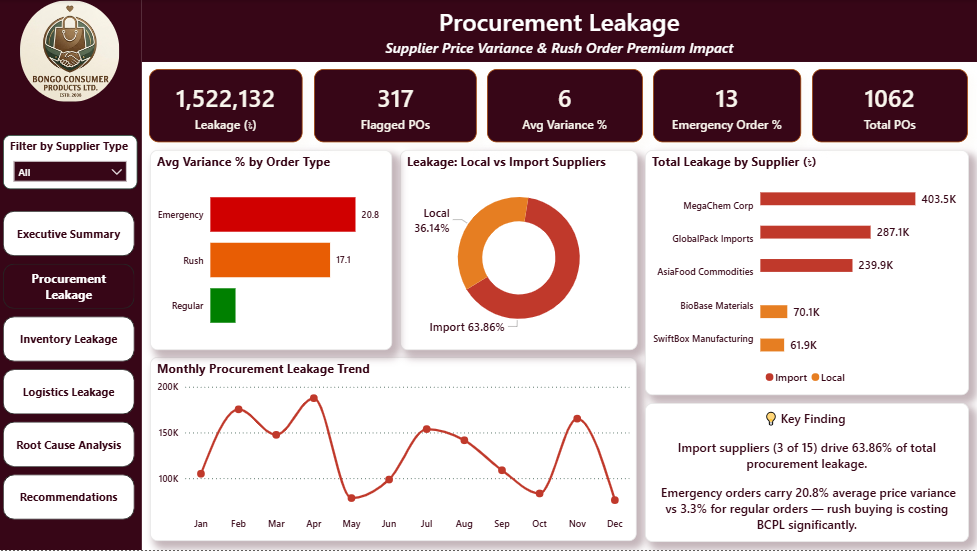

What the dashboard file says about the page in this screenshot:
{"tool":"powerbi","page":{"name":"Procurement Leakage","canvas":[1280,720],"ordinal":1},"visuals":[{"type":"shape","box":[0,0,187.2,720],"z":0},{"type":"lineChart","title":"Monthly Procurement Leakage Trend","fields":{"Y":["Sum(vw_procurement_price_variance.total_leakage_amount)"],"Category":["vw_procurement_price_variance.Month_Short"]},"box":[198.2,468,637.2,240.9],"z":1000},{"type":"donutChart","title":"Leakage: Local vs Import Suppliers","fields":{"Y":["Sum(vw_procurement_price_variance.total_leakage_amount)"],"Category":["vw_procurement_price_variance.supplier_type"]},"box":[524.4,196.8,311.1,261.5],"z":2000},{"type":"slicer","title":"Filter by Supplier Type","fields":{"Values":["vw_procurement_price_variance.supplier_type"]},"box":[4.6,177.1,175.6,70.9],"z":3000},{"type":"clusteredBarChart","title":"Avg Variance % by Order Type","fields":{"Category":["vw_procurement_price_variance.order_type"],"Y":["Avg(vw_procurement_price_variance.variance_pct)"]},"box":[198.2,196.8,316.6,261.5],"z":4000},{"type":"card","fields":{"Values":["_Measures.Total Procurement Leakage"]},"box":[196.8,90.8,200.9,96.3],"z":5000},{"type":"card","fields":{"Values":["_Measures.Flagged PO Count"]},"box":[412.9,90.8,213.3,96.3],"z":6000},{"type":"card","fields":{"Values":["_Measures.Avg Variance %"]},"box":[638.6,90.8,203.7,96.3],"z":7000},{"type":"card","fields":{"Values":["_Measures.Rush Emergency Order %"]},"box":[856.1,90.8,194.1,96.3],"z":8000},{"type":"clusteredBarChart","title":"Total Leakage by Supplier (৳)","fields":{"Category":["vw_procurement_price_variance.supplier_name"],"Y":["Sum(vw_procurement_price_variance.total_leakage_amount)"],"Series":["vw_procurement_price_variance.supplier_type"]},"box":[845.1,196.8,423.9,320.7],"z":9000},{"type":"card","fields":{"Values":["_Measures.Total POs Analyzed"]},"box":[1063.9,90.8,203.7,96.3],"z":10000},{"type":"textbox","box":[845.1,527.1,423.9,181.7],"z":11000},{"type":"textbox","box":[187,0,1093,80.6],"z":12000},{"type":"image","box":[27.4,0,129.6,133.9],"z":13000},{"type":"pageNavigator","box":[5.8,276.5,172.8,406.1],"z":14000}]}

Visuals, with their boxes on the page's 1280x720 design canvas (x1, y1, x2, y2). These are canvas units, not pixel positions in the 977x551 screenshot, which may show the page scaled, cropped or inside an application window:
shape: l=0, t=0, r=187, b=720
"Monthly Procurement Leakage Trend" lineChart: l=198, t=468, r=835, b=709
"Leakage: Local vs Import Suppliers" donutChart: l=524, t=197, r=836, b=458
"Filter by Supplier Type" slicer: l=5, t=177, r=180, b=248
"Avg Variance % by Order Type" clusteredBarChart: l=198, t=197, r=515, b=458
card - _Measures.Total Procurement Leakage: l=197, t=91, r=398, b=187
card - _Measures.Flagged PO Count: l=413, t=91, r=626, b=187
card - _Measures.Avg Variance %: l=639, t=91, r=842, b=187
card - _Measures.Rush Emergency Order %: l=856, t=91, r=1050, b=187
"Total Leakage by Supplier (৳)" clusteredBarChart: l=845, t=197, r=1269, b=518
card - _Measures.Total POs Analyzed: l=1064, t=91, r=1268, b=187
textbox: l=845, t=527, r=1269, b=709
textbox: l=187, t=0, r=1280, b=81
image: l=27, t=0, r=157, b=134
pageNavigator: l=6, t=276, r=179, b=683
